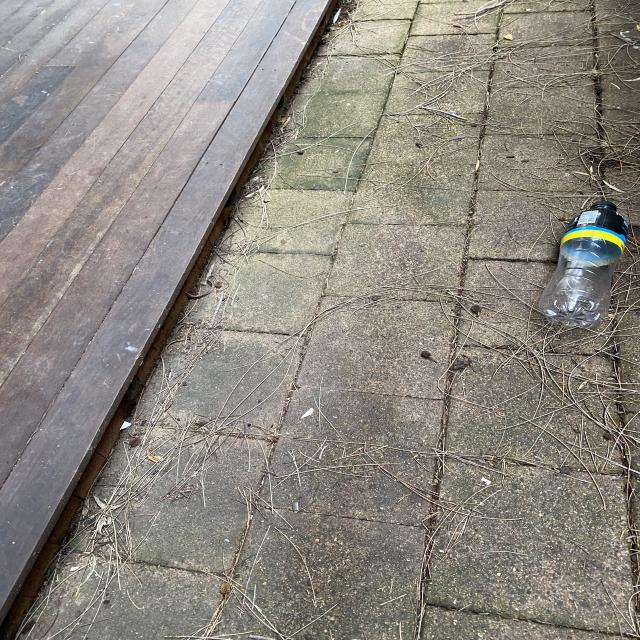bottle: (542, 198, 633, 328)
